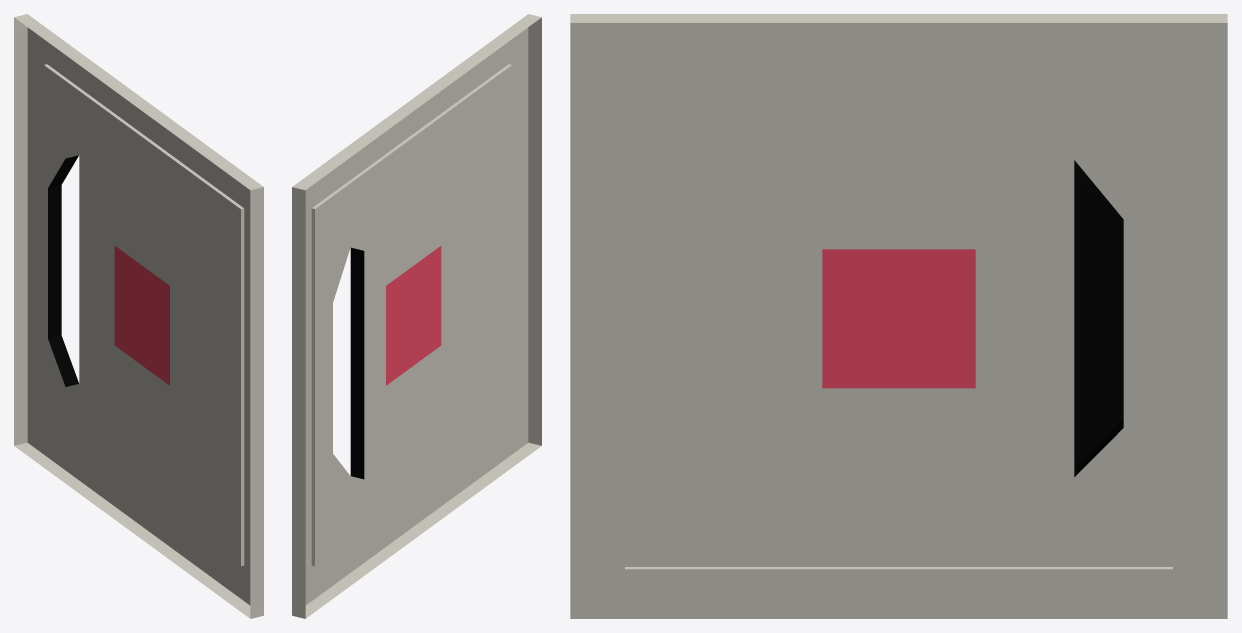
The model's file is -Fire_Hidrant-.fbx.
The picture shows the model from 3 angles, left to right: view 1: azimuth 30°, elevation 25°; view 2: azimuth 150°, elevation 25°; view 3: azimuth 270°, elevation 25°; orthographic projection. The views are drawn at different scales.
Visible parts, largest first — view 1: -Fire_Hidrant- (2); view 2: -Fire_Hidrant- (2); view 3: -Fire_Hidrant- (2).
Part boxes in pixels (x1,y1,x2,y2): -Fire_Hidrant- (2): [14, 14, 263, 618]; -Fire_Hidrant- (2): [292, 14, 541, 618]; -Fire_Hidrant- (2): [570, 14, 1227, 618].
Bounding box in the file's own units: 3.45 × 82.8 × 82.8.
